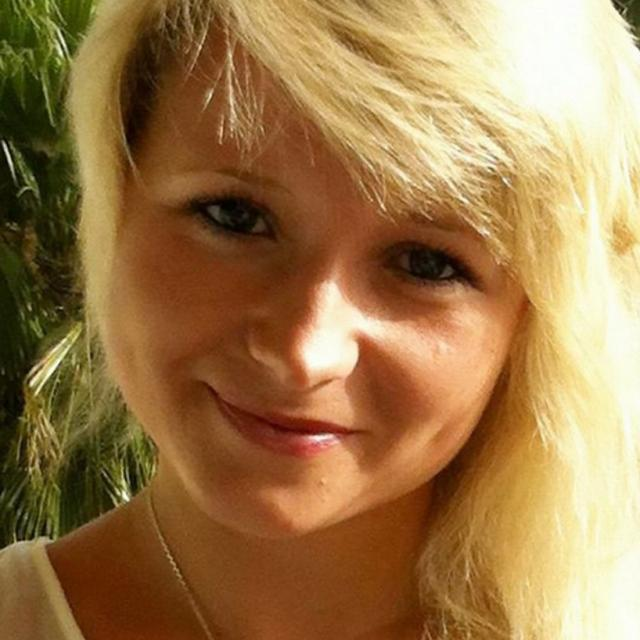Normal: (103, 28, 527, 538)
